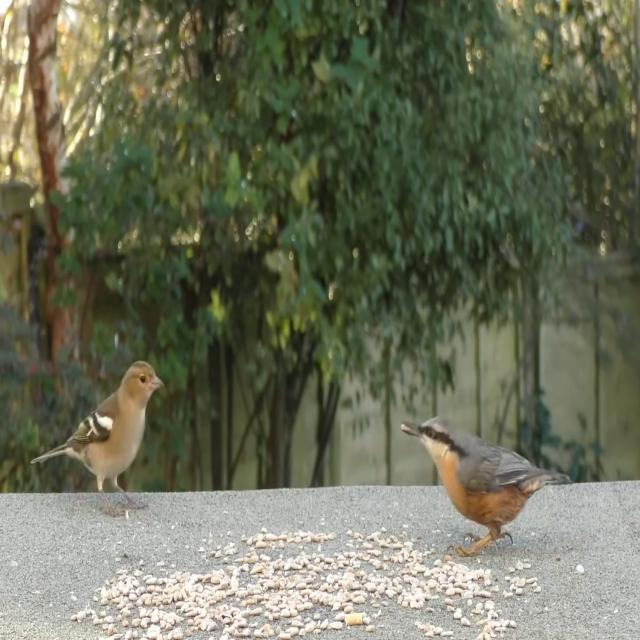beak: (398, 412, 422, 444), (152, 368, 165, 398)
bird: (398, 399, 562, 556), (35, 358, 164, 520)
